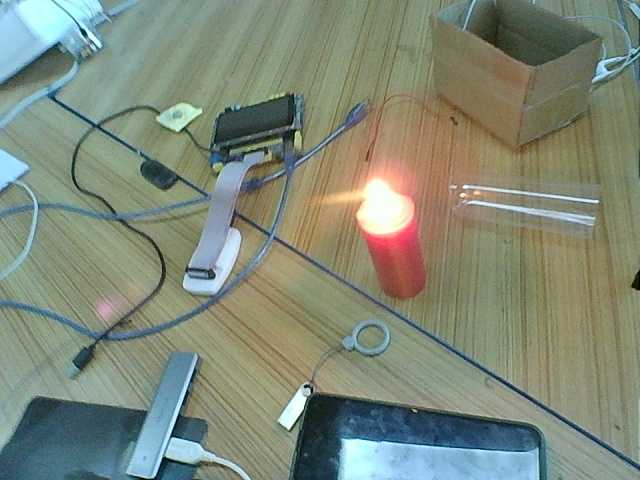candle: (367, 220, 430, 308)
fire: (354, 178, 404, 222)
